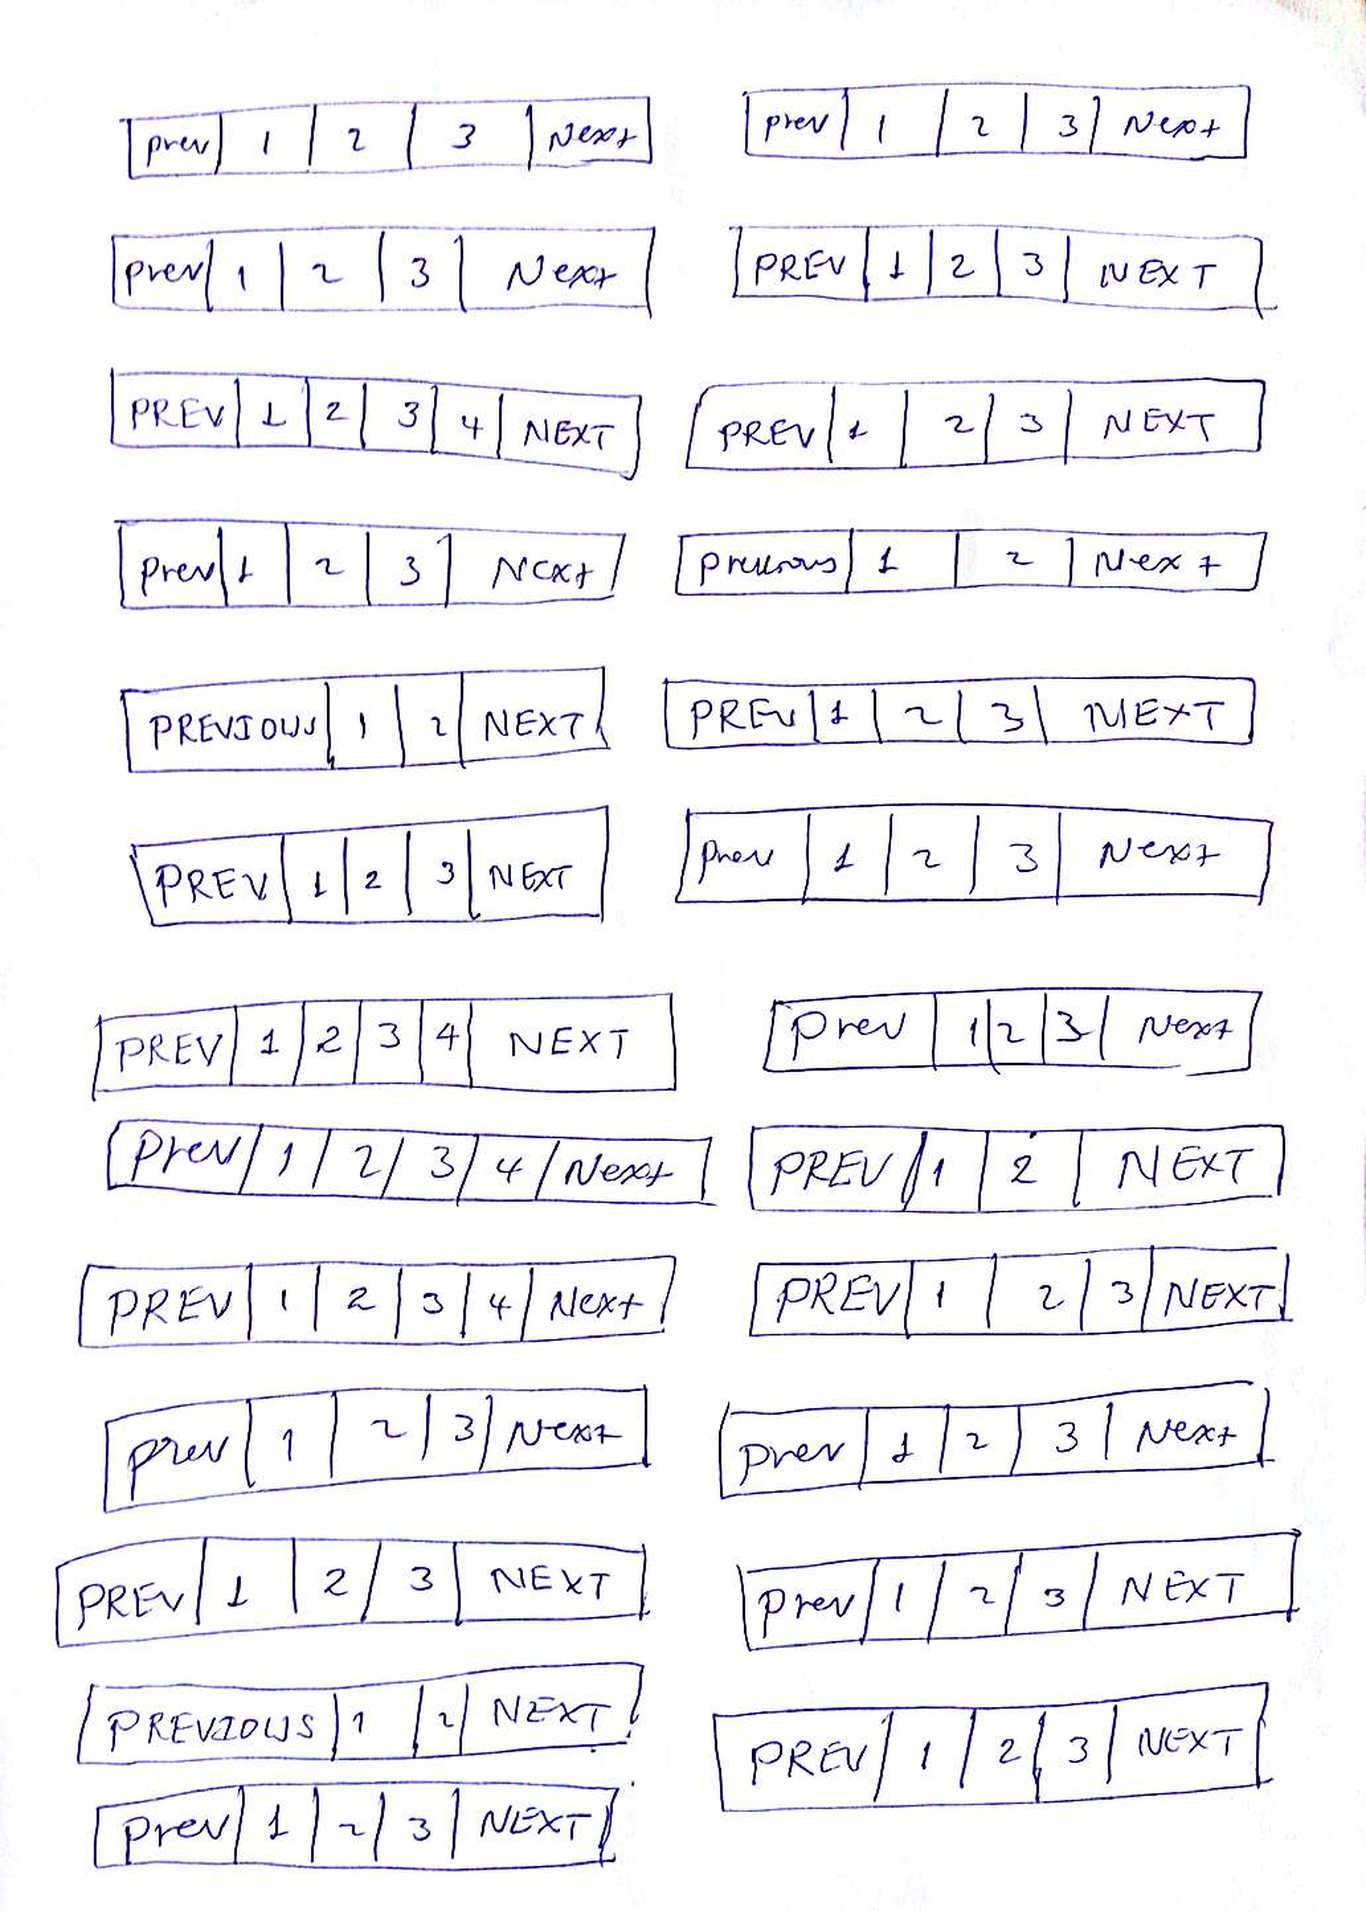Pagination: (710, 1677, 1271, 1816), (732, 1522, 1301, 1657), (99, 1382, 653, 1519), (714, 1377, 1274, 1506), (50, 1534, 652, 1651), (71, 1649, 646, 1771), (671, 794, 1279, 907), (86, 987, 682, 1103), (127, 801, 614, 931), (72, 1249, 679, 1352), (106, 367, 648, 482), (682, 374, 1268, 476), (103, 1116, 718, 1210), (114, 664, 611, 779), (742, 1119, 1288, 1216), (747, 1241, 1291, 1339), (103, 222, 662, 316), (656, 670, 1261, 757), (89, 1777, 619, 1874), (114, 511, 628, 612), (726, 222, 1271, 316), (123, 92, 656, 183), (757, 984, 1265, 1079), (670, 525, 1271, 602), (739, 77, 1254, 166)
